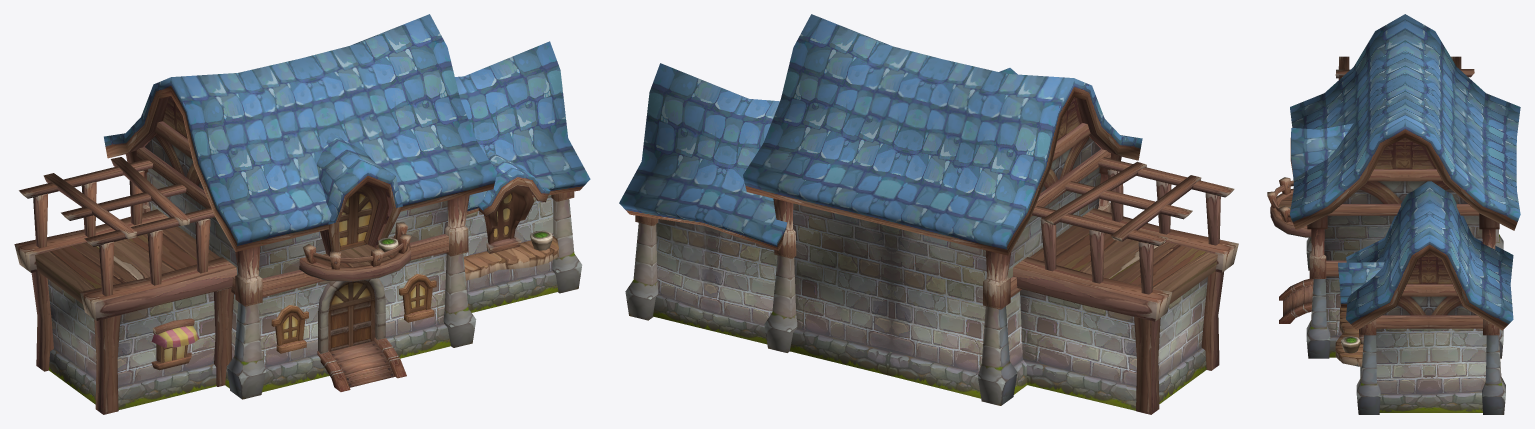
Rendered from Map_06_house04.FBX.
3 renders of one model, left to right at view 1: azimuth 30°, elevation 25°; view 2: azimuth 150°, elevation 25°; view 3: azimuth 270°, elevation 25°, orthographic. The views are drawn at different scales.
Visible parts, largest first — view 1: Map_06_house04; view 2: Map_06_house04; view 3: Map_06_house04.
Boxes of the visible parts, x1,y1,x2,y2 form: Map_06_house04: [14, 14, 590, 414]; Map_06_house04: [619, 14, 1238, 414]; Map_06_house04: [1267, 14, 1520, 414].
Bounding box in the file's own units: 1392 × 698 × 738.
